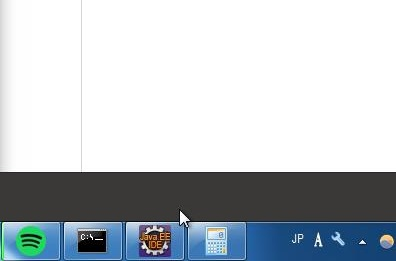cursor: (178, 208, 191, 228)
